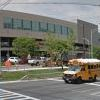Bus: (63, 53, 100, 89)
